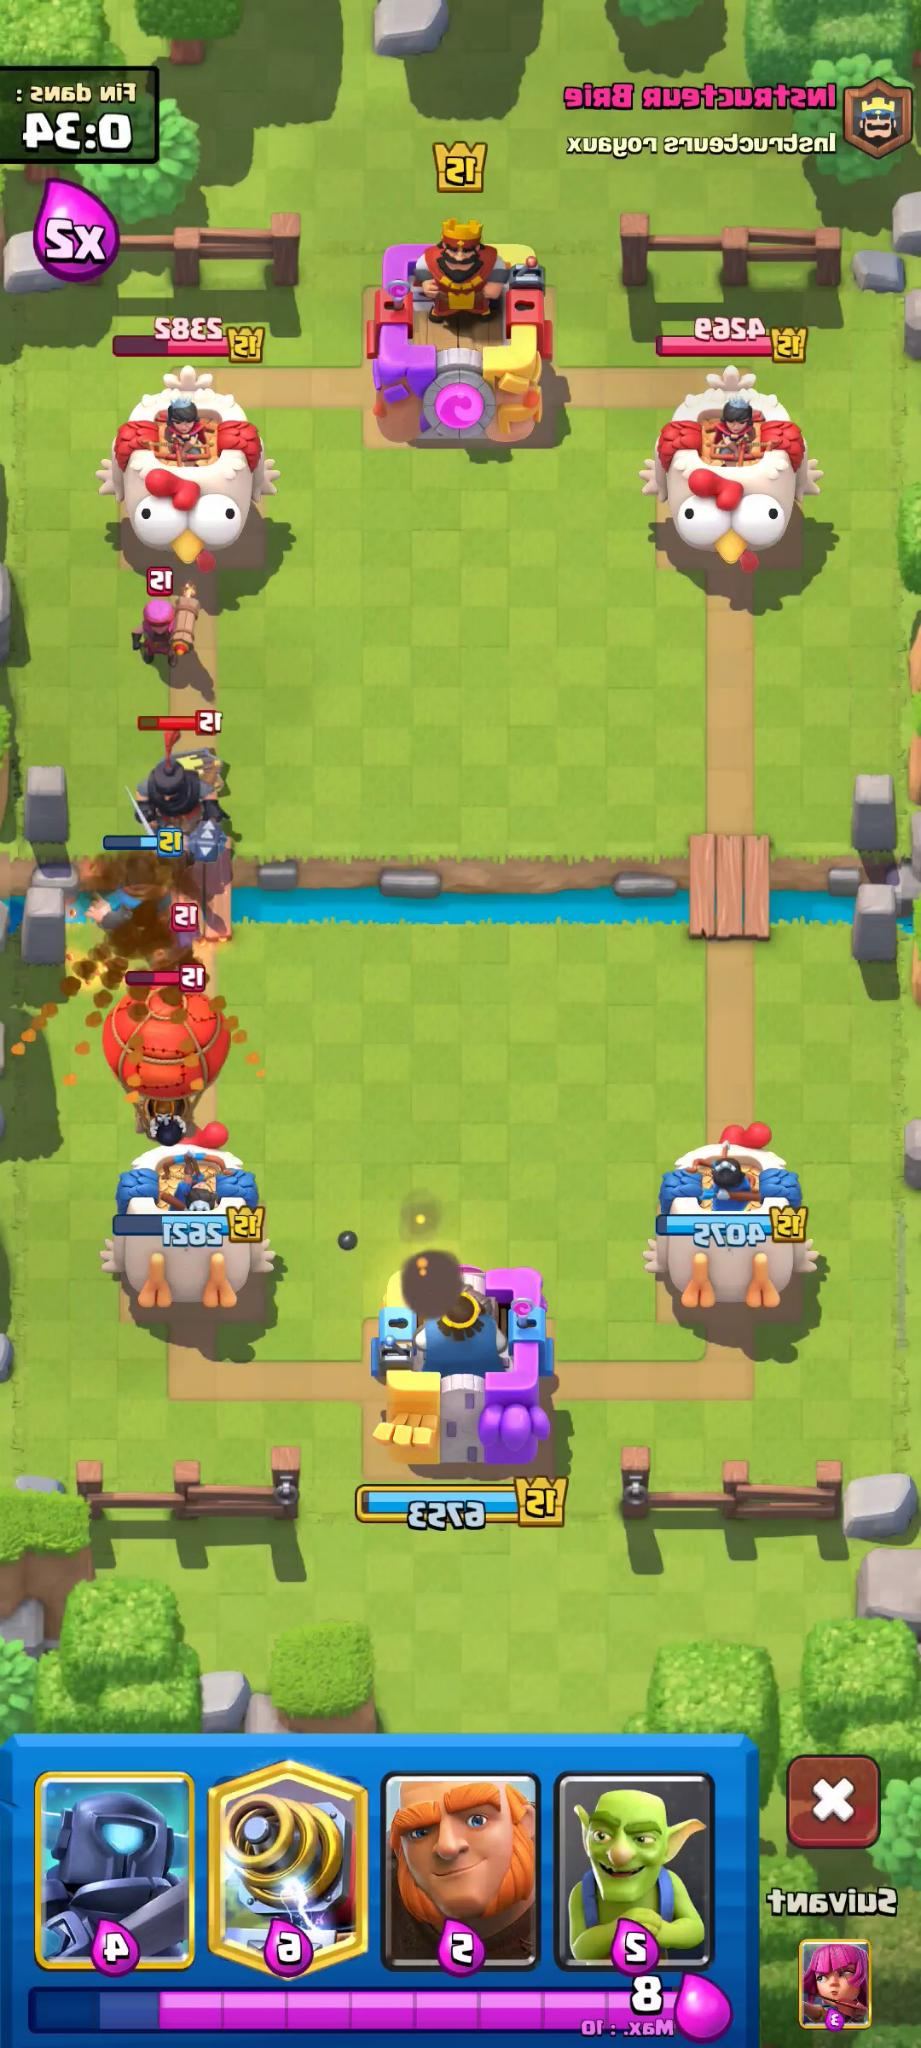chevalier: (91, 806, 172, 965)
